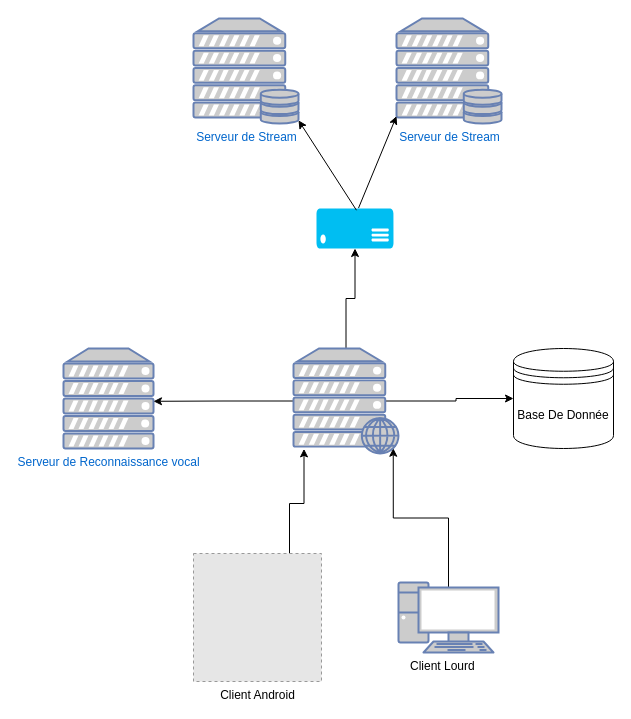
This 631x719 diagram has some shape labels left out. Grey dashed boxes stand in for pictures. Each missing label, with the centre of its shape:
"Server repartition de charges" belongs at (354,228).
"Web Service" belongs at (345,400).
